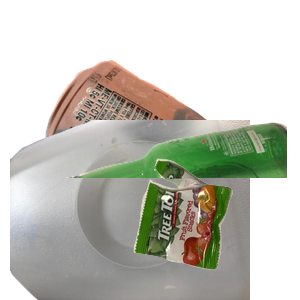glass: (60, 120, 300, 300)
metal: (43, 58, 283, 238)
plastic: (10, 120, 250, 300)
trash: (131, 156, 300, 300)
